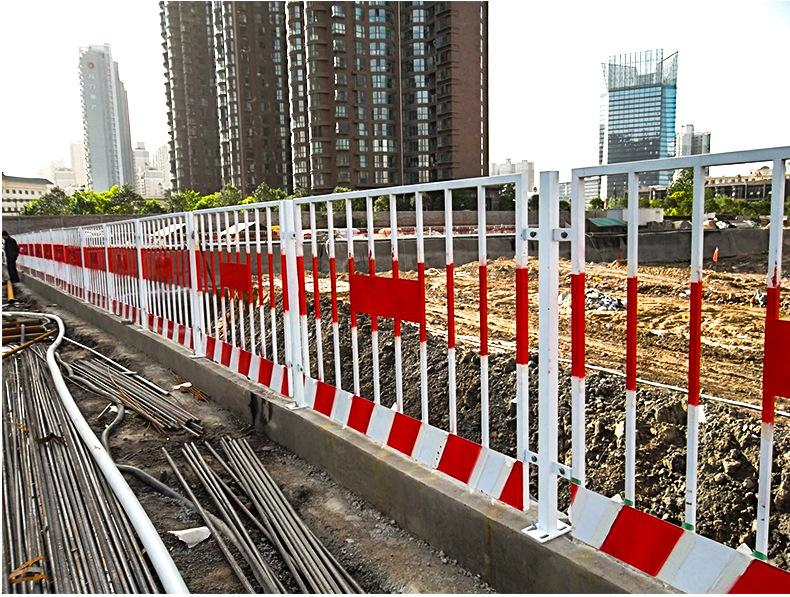sign: (269, 146, 790, 580)
